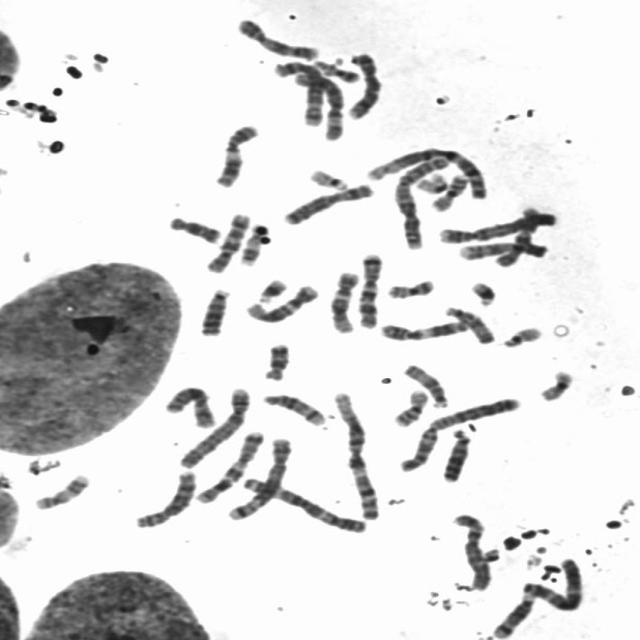A1: (360, 143, 492, 200), (328, 388, 382, 521)
A2: (394, 393, 524, 473), (391, 147, 452, 251)
A3: (237, 473, 370, 534), (519, 553, 587, 612)
B4: (173, 382, 253, 470), (433, 208, 559, 245)
B5: (222, 432, 294, 521), (268, 56, 328, 127)
C10: (490, 201, 545, 268), (202, 209, 254, 275)
C11: (210, 120, 261, 189), (375, 316, 472, 342)
C12: (240, 281, 321, 324), (324, 268, 362, 334)
C6: (288, 69, 347, 142), (447, 508, 495, 592)
C7: (191, 426, 268, 505), (354, 248, 385, 329)
C8: (129, 466, 199, 530), (343, 48, 385, 120)
C9: (232, 13, 321, 61), (454, 238, 551, 262)
D13: (438, 424, 474, 484), (195, 284, 233, 337)
D14: (258, 389, 327, 427), (486, 590, 538, 640)
D15: (440, 302, 498, 346), (399, 361, 452, 408)
E16: (428, 170, 471, 212), (389, 386, 430, 428)
E17: (30, 469, 92, 511), (235, 220, 271, 268)
E18: (163, 212, 224, 244), (259, 338, 292, 382)
F19: (534, 366, 576, 402), (411, 169, 452, 195)
F20: (308, 56, 362, 84), (382, 275, 438, 300)
G21: (253, 274, 290, 304), (466, 276, 499, 308)
G22: (305, 165, 352, 192), (498, 322, 545, 348)
X: (276, 180, 375, 226), (160, 382, 218, 429)
